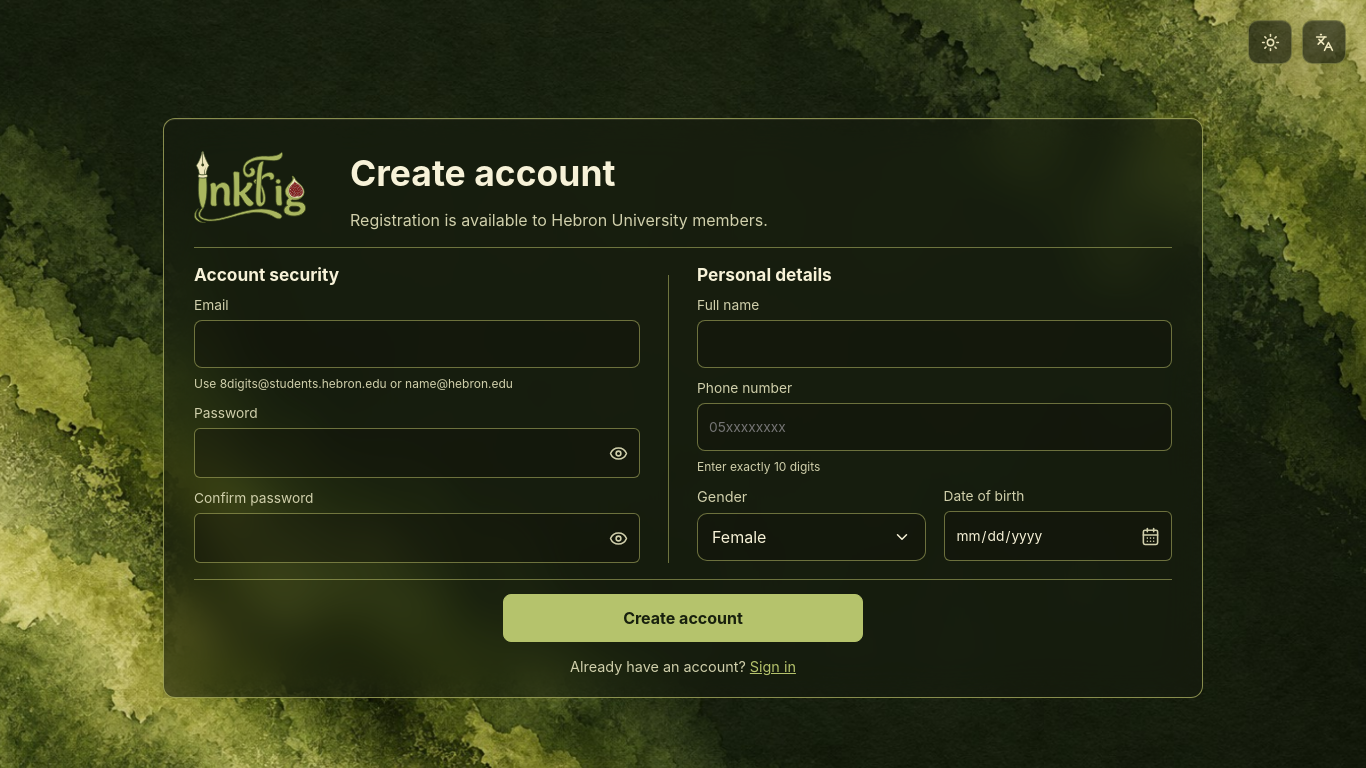
Scenario: preserves signup validation before sending a request: Phone number must contain exactly 10 digits.
Type "12345678@students.hebron.edu" into the field labelled "Email Use 8digits@students.hebron.edu or name@hebron.edu" at [417, 344], box x1=194 y1=320 x2=640 y2=368
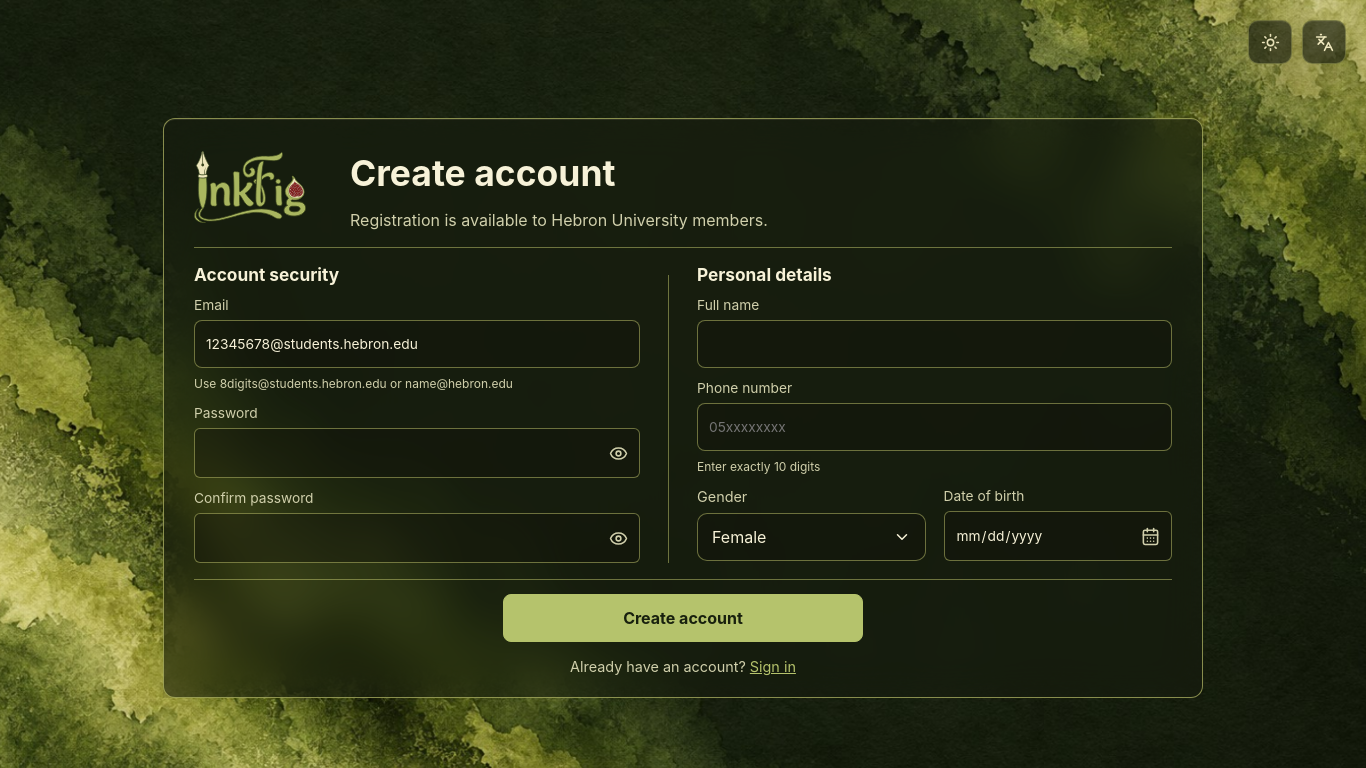
Type "123" into the field labelled "Phone number Enter exactly 10 digits" at [934, 427], box x1=697 y1=403 x2=1172 y2=451
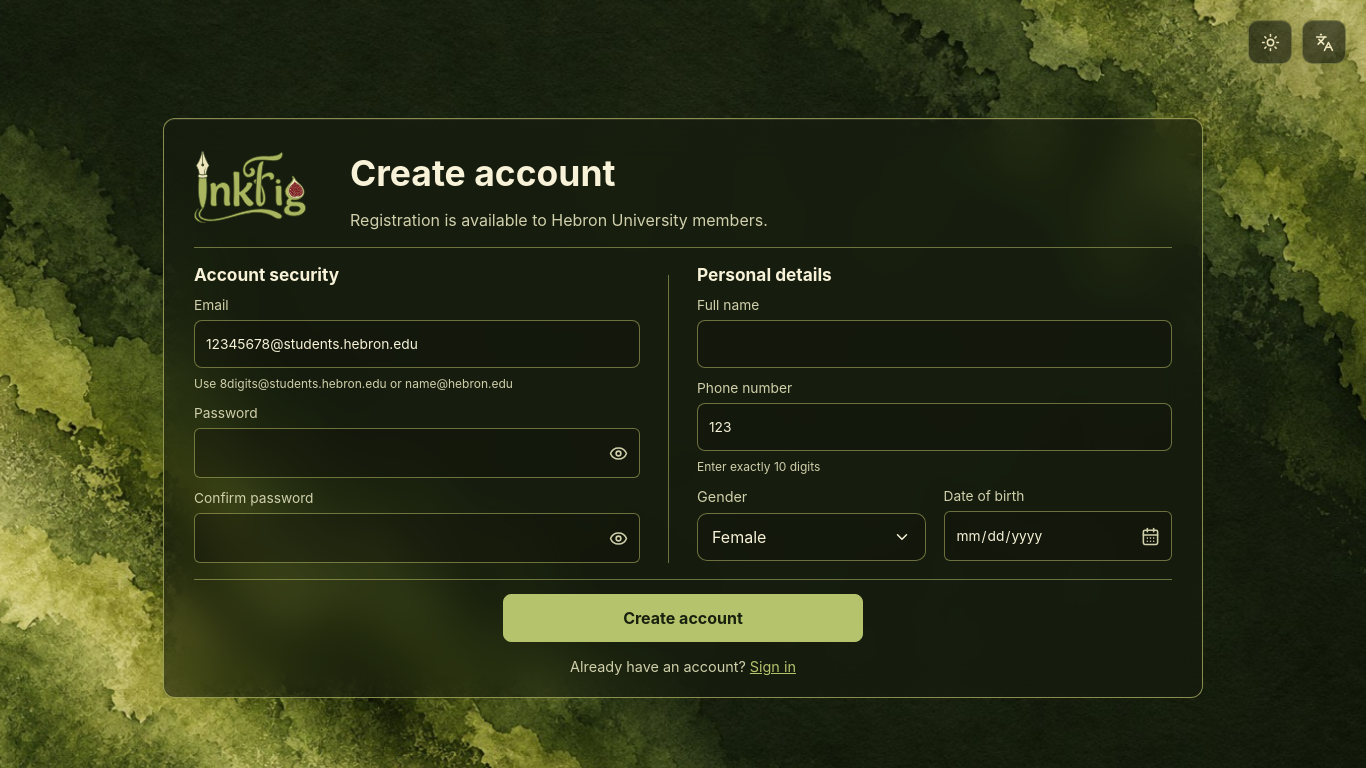
Type "SecurePass123" into the password field labelled "Password" at [396, 453], box x1=195 y1=429 x2=597 y2=477
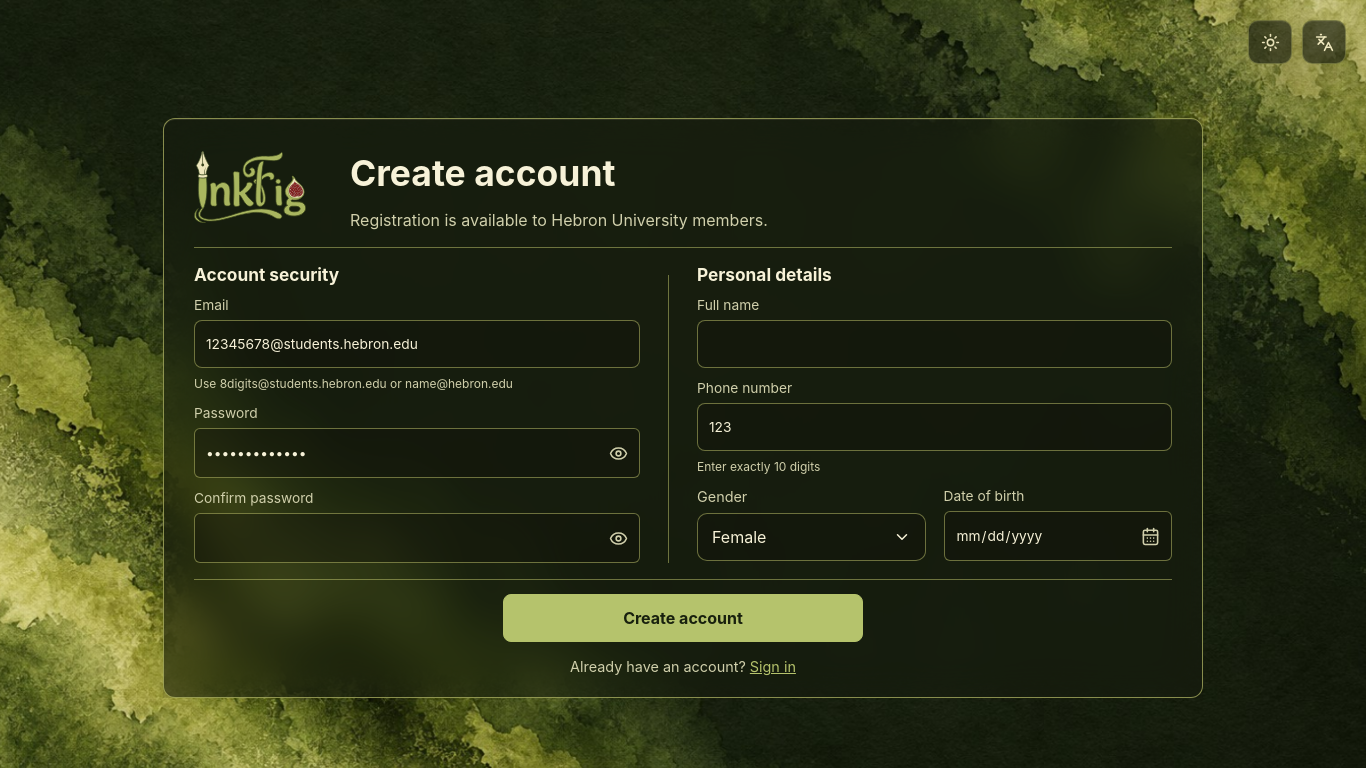
Type "SecurePass123" into the password field labelled "Confirm password" at [396, 538], box x1=195 y1=514 x2=597 y2=562
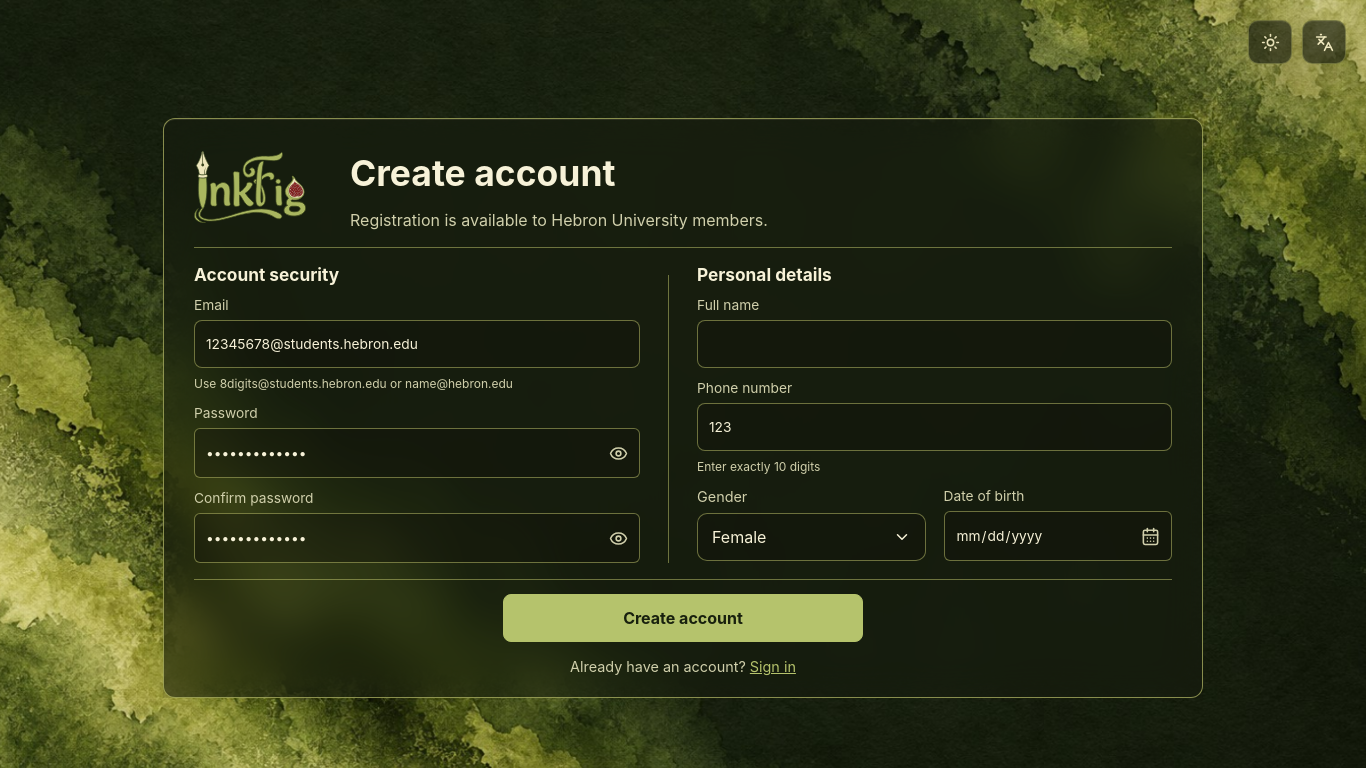
Submit the form, box x1=194 y1=264 x2=1172 y2=642
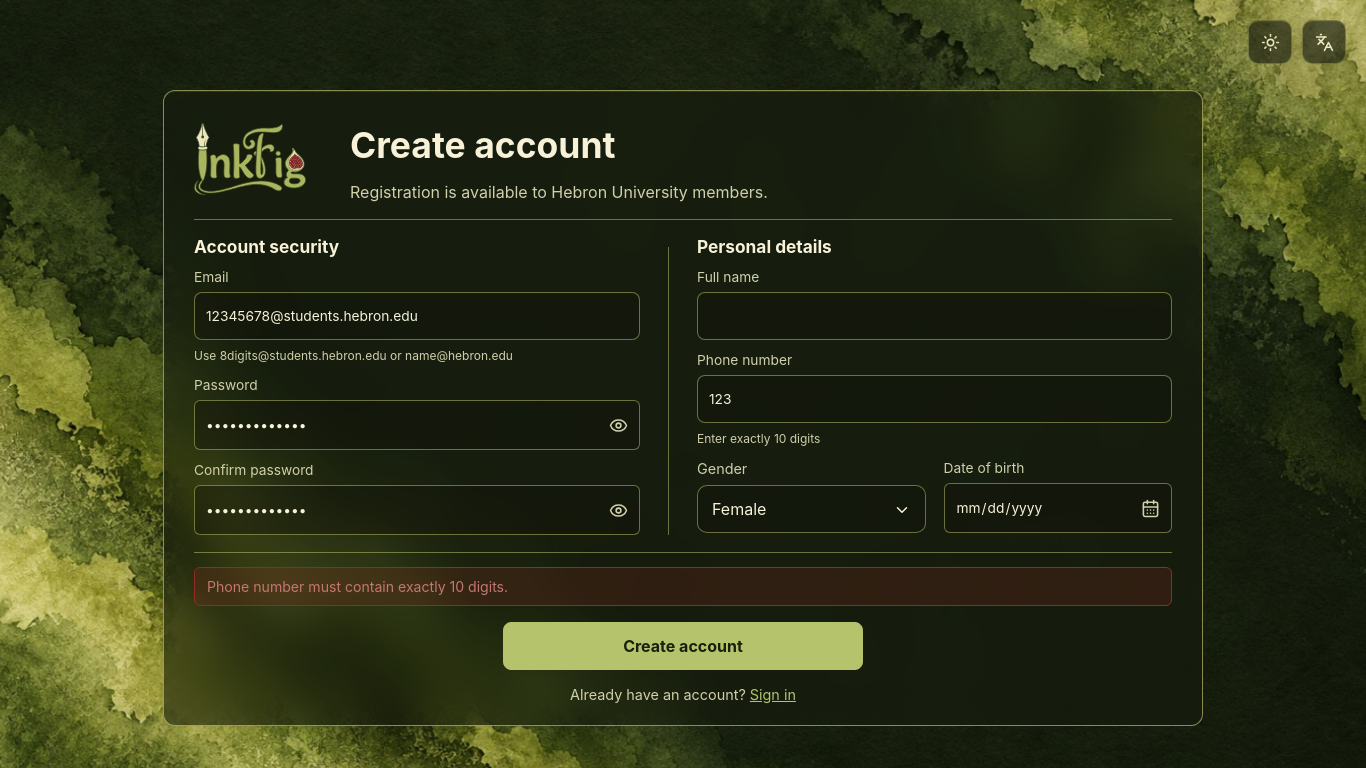
Result: the message reads "Phone number must contain exactly 10 digits." at x1=207 y1=578 x2=508 y2=595
